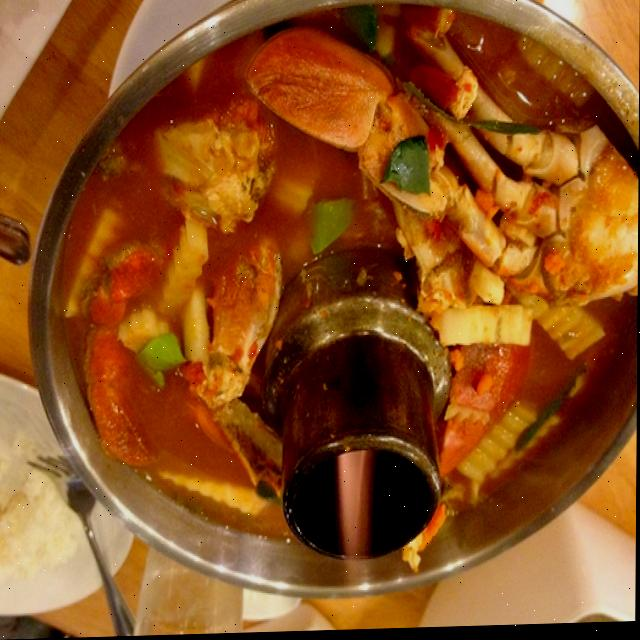汤锅炖物: (38, 0, 640, 612)
